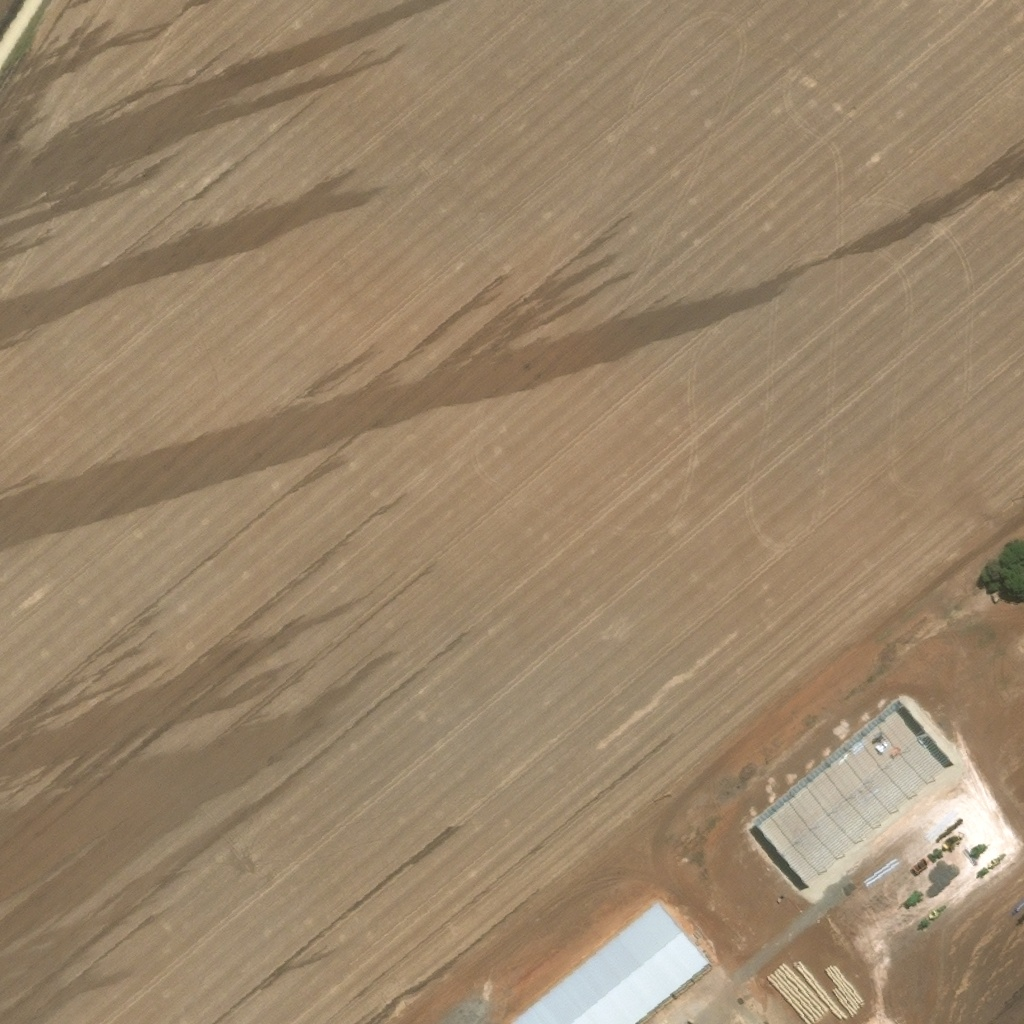0 no-damage: (511, 896, 713, 1023)
